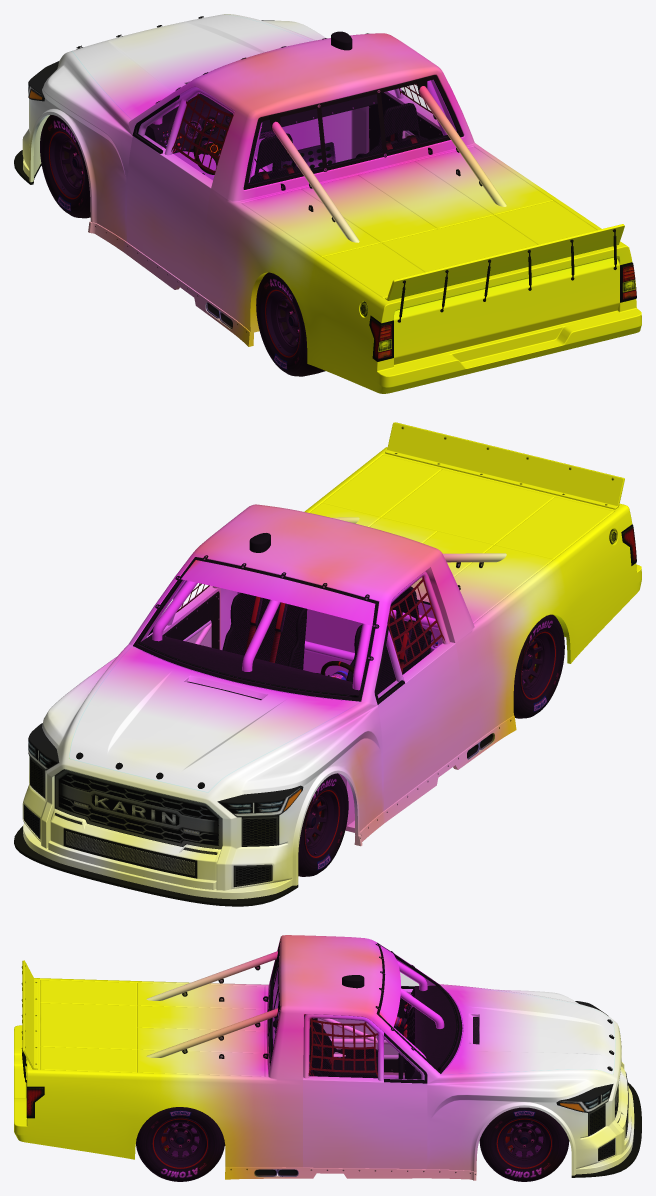
Rendered from everon2.glb.
3 renders of one model, top to bottom at view 1: azimuth 30°, elevation 25°; view 2: azimuth 150°, elevation 25°; view 3: azimuth 270°, elevation 25°, orthographic. The views are drawn at different scales.
Parts seen in each view (by area): view 1: bodyshell, chassis, door_dside_f, bonnet, windscreen_r, misc_e, wheel_lr, wheel_lf, door_pside_f, misc_a, steeringwheel; view 2: bodyshell, bonnet, chassis, door_dside_f, misc_e, wheel_lr, wheel_lf, door_pside_f, misc_a; view 3: bodyshell, door_pside_f, bonnet, chassis, wheel_rr, wheel_rf, door_dside_f, misc_e, misc_b, engineblock.
Boxes of the visible parts, x1,y1,x2,y2 form: bodyshell: (14, 14, 641, 393); chassis: (30, 31, 458, 346); door_dside_f: (126, 87, 234, 296); bonnet: (71, 14, 311, 119); windscreen_r: (249, 80, 457, 183); misc_e: (385, 224, 624, 322); wheel_lr: (256, 272, 325, 376); wheel_lf: (40, 115, 90, 218); door_pside_f: (368, 84, 443, 152); misc_a: (137, 101, 175, 149); steeringwheel: (193, 123, 228, 174); bodyshell: (14, 447, 641, 906); bonnet: (69, 646, 359, 792); chassis: (137, 529, 617, 846); door_dside_f: (374, 571, 462, 810); misc_e: (385, 422, 624, 509); wheel_lr: (513, 614, 564, 718); wheel_lf: (298, 773, 348, 876); door_pside_f: (145, 580, 220, 649); misc_a: (377, 634, 402, 698); bodyshell: (14, 935, 641, 1180); door_pside_f: (303, 1014, 427, 1169); bonnet: (442, 985, 615, 1074); chassis: (135, 945, 460, 1177); wheel_rr: (136, 1107, 224, 1181); wheel_rf: (479, 1107, 569, 1181); door_dside_f: (313, 986, 414, 1075); misc_e: (21, 960, 37, 1082); misc_b: (384, 1037, 423, 1079); engineblock: (254, 1017, 479, 1176).
Bounding box in the file's own units: 2.07 × 1.59 × 5.19.
Materials: 26 (26 with a texture image).
